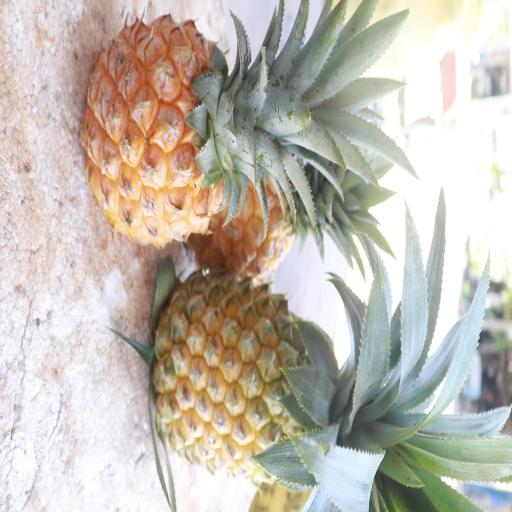Pineapple - v8 v1: (80, 8, 328, 251), (149, 264, 423, 481), (184, 118, 352, 281)
